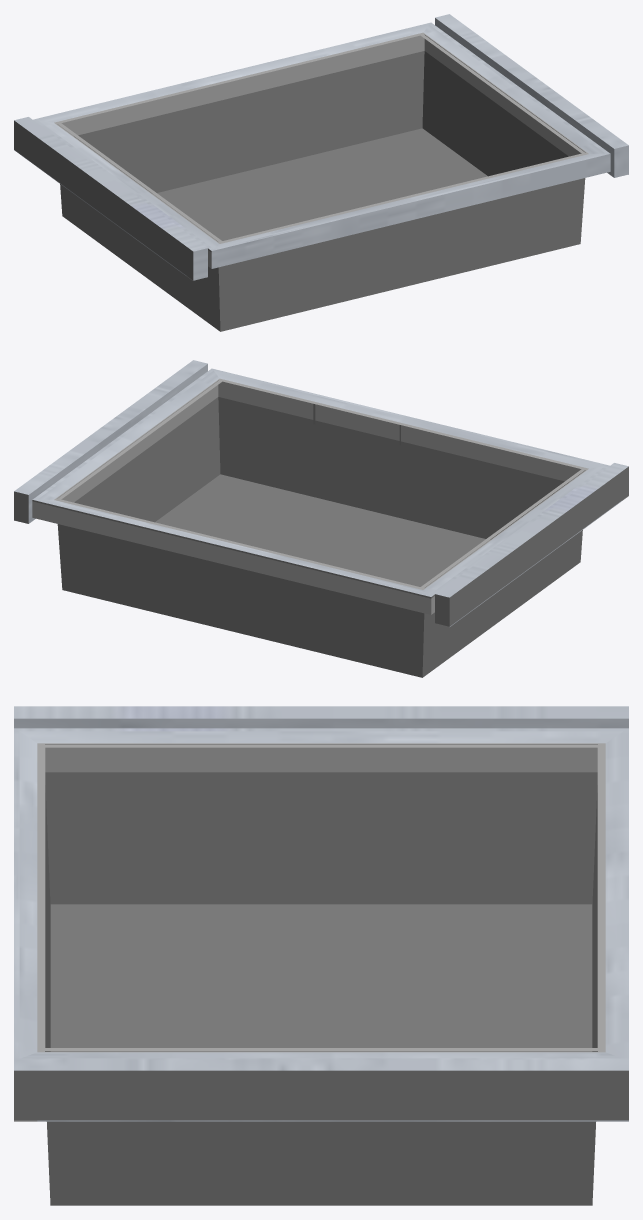
File: JP-drawer-wire-basket.glb
3 views of the same model, one above another, from view 1: azimuth 30°, elevation 25°; view 2: azimuth 150°, elevation 25°; view 3: azimuth 270°, elevation 25° (orthographic). The views are drawn at different scales.
Visible parts, largest first — view 1: Geom3D (×3); view 2: Geom3D (×3); view 3: Geom3D (×3).
Part boxes in pixels (x1,y1,x2,y2): Geom3D (×3): (14,14,628,331); Geom3D (×3): (14,360,628,677); Geom3D (×3): (14,706,628,1205).
Bounding box in the file's own units: 0.6955 × 0.1484 × 0.4962.
Materials: 3 (1 with a texture image).
